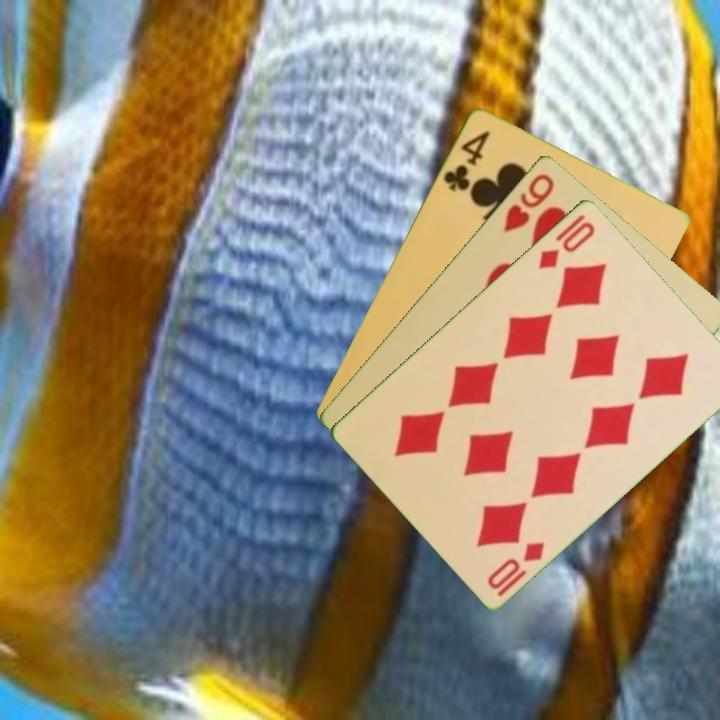10d: (484, 537, 548, 600), (535, 217, 598, 272)
4c: (439, 126, 493, 194)
9h: (500, 169, 558, 235)
